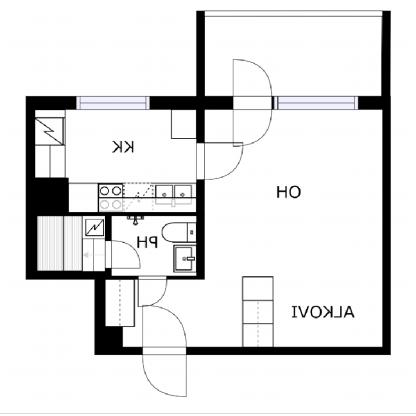door: (140, 305, 197, 399), (231, 58, 275, 148), (194, 141, 244, 182), (104, 240, 141, 272), (137, 274, 169, 306)
window: (273, 94, 359, 109), (77, 96, 150, 108)
zone: (104, 110, 382, 349), (34, 110, 198, 214), (204, 16, 380, 95), (107, 215, 198, 277), (38, 217, 106, 274)
